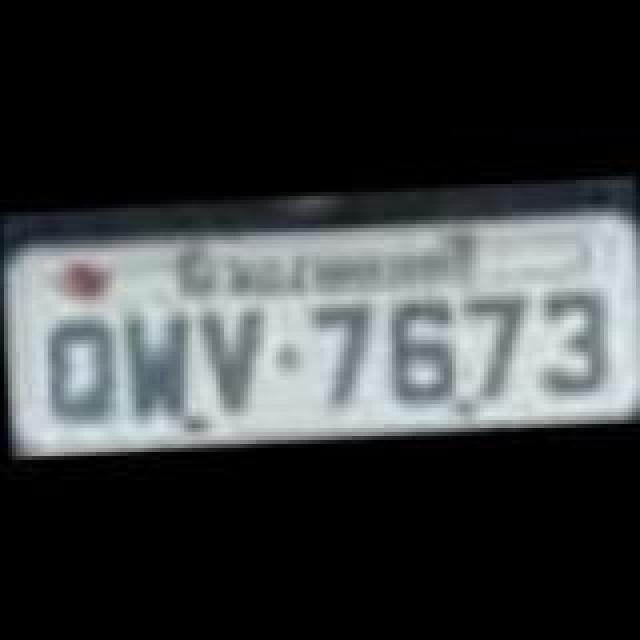3: (534, 286, 606, 394)
6: (380, 294, 456, 402)
7: (306, 294, 378, 406), (456, 288, 524, 400)
Q: (38, 308, 118, 420)
V: (194, 298, 274, 422)
W: (114, 300, 194, 424)
